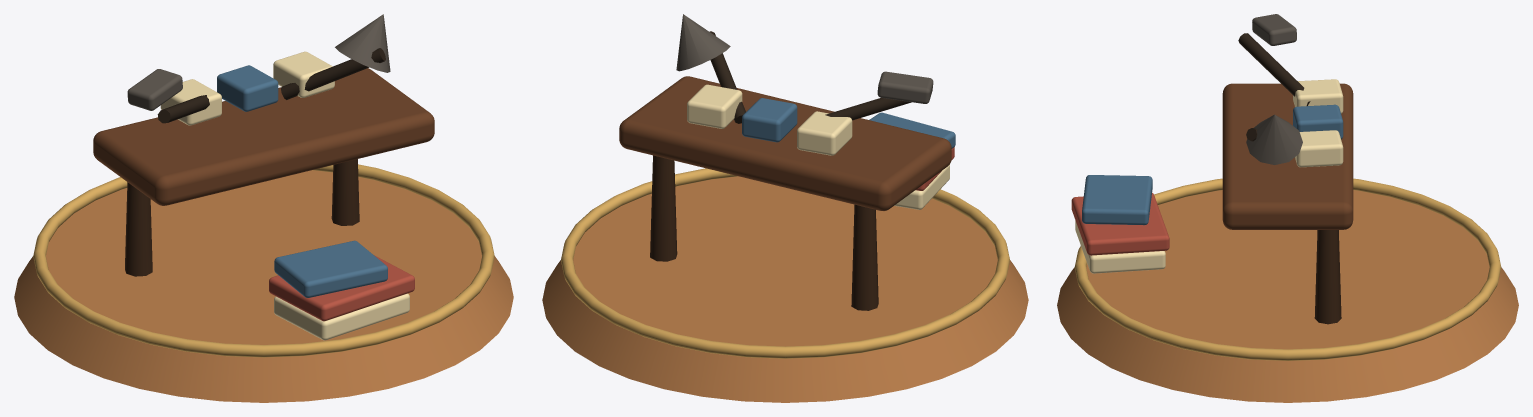
The model's file is practice-workbench.glb.
The picture shows the model from 3 angles, left to right: view 1: azimuth 30°, elevation 25°; view 2: azimuth 150°, elevation 25°; view 3: azimuth 270°, elevation 25°; orthographic projection. The views are drawn at different scales.
Parts seen in each view (by area): view 1: asset-plinth, practice-table, plinth-rim, practice-card (×3), book-cover-small, table-leg (×2), book-cover, book-pages, pick-head, tool-head, second-tool, tool-handle; view 2: asset-plinth, practice-table, plinth-rim, practice-card (×3), table-leg (×2), pick-head, tool-head, book-cover-small, tool-handle, book-pages, second-tool; view 3: asset-plinth, practice-table, plinth-rim, practice-card (×3), book-cover-small, book-cover, table-leg, pick-head, book-pages, tool-handle, tool-head.
Boxes of the visible parts, bbox=[...] form: asset-plinth: bbox=[14, 170, 513, 402]; practice-table: bbox=[93, 68, 434, 205]; plinth-rim: bbox=[33, 164, 494, 357]; practice-card (×3): bbox=[160, 51, 334, 125]; book-cover-small: bbox=[274, 240, 387, 297]; table-leg (×2): bbox=[125, 159, 359, 276]; book-cover: bbox=[269, 255, 414, 321]; book-pages: bbox=[274, 293, 409, 340]; pick-head: bbox=[335, 14, 390, 72]; tool-head: bbox=[127, 69, 182, 110]; second-tool: bbox=[281, 48, 385, 99]; tool-handle: bbox=[157, 95, 209, 123]; asset-plinth: bbox=[542, 176, 1028, 402]; practice-table: bbox=[619, 76, 951, 210]; plinth-rim: bbox=[561, 168, 1009, 358]; practice-card (×3): bbox=[687, 84, 852, 155]; table-leg (×2): bbox=[650, 155, 878, 310]; pick-head: bbox=[676, 14, 730, 71]; tool-head: bbox=[877, 71, 933, 103]; book-cover-small: bbox=[869, 112, 955, 148]; tool-handle: bbox=[825, 98, 911, 120]; book-pages: bbox=[894, 164, 949, 209]; second-tool: bbox=[709, 31, 745, 123]; asset-plinth: bbox=[1057, 190, 1518, 402]; practice-table: bbox=[1222, 83, 1353, 229]; plinth-rim: bbox=[1074, 178, 1501, 360]; practice-card (×3): bbox=[1293, 79, 1343, 167]; book-cover-small: bbox=[1082, 175, 1152, 225]; book-cover: bbox=[1071, 193, 1169, 255]; table-leg: bbox=[1314, 230, 1341, 324]; pick-head: bbox=[1246, 114, 1302, 164]; book-pages: bbox=[1075, 220, 1165, 273]; tool-handle: bbox=[1238, 33, 1310, 105]; tool-head: bbox=[1252, 14, 1296, 45].
Size of the model in its own units: 2.76 by 1.59 by 2.76.
